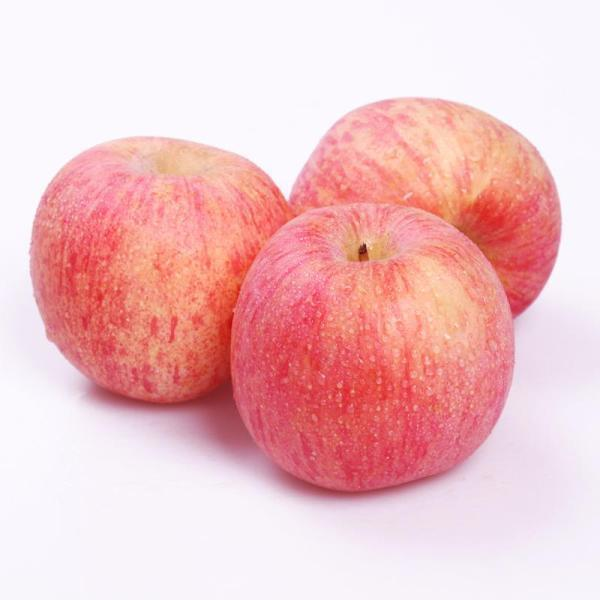apple: (221, 203, 519, 493), (26, 135, 297, 410), (294, 99, 561, 341)
